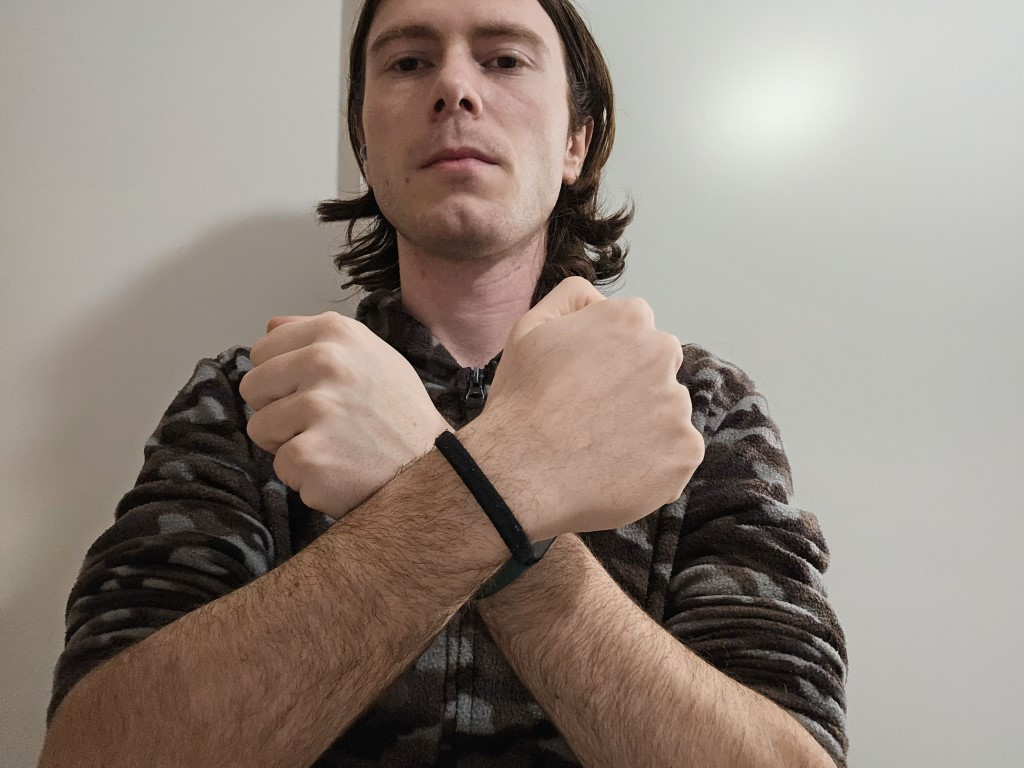del: (214, 258, 726, 613)
